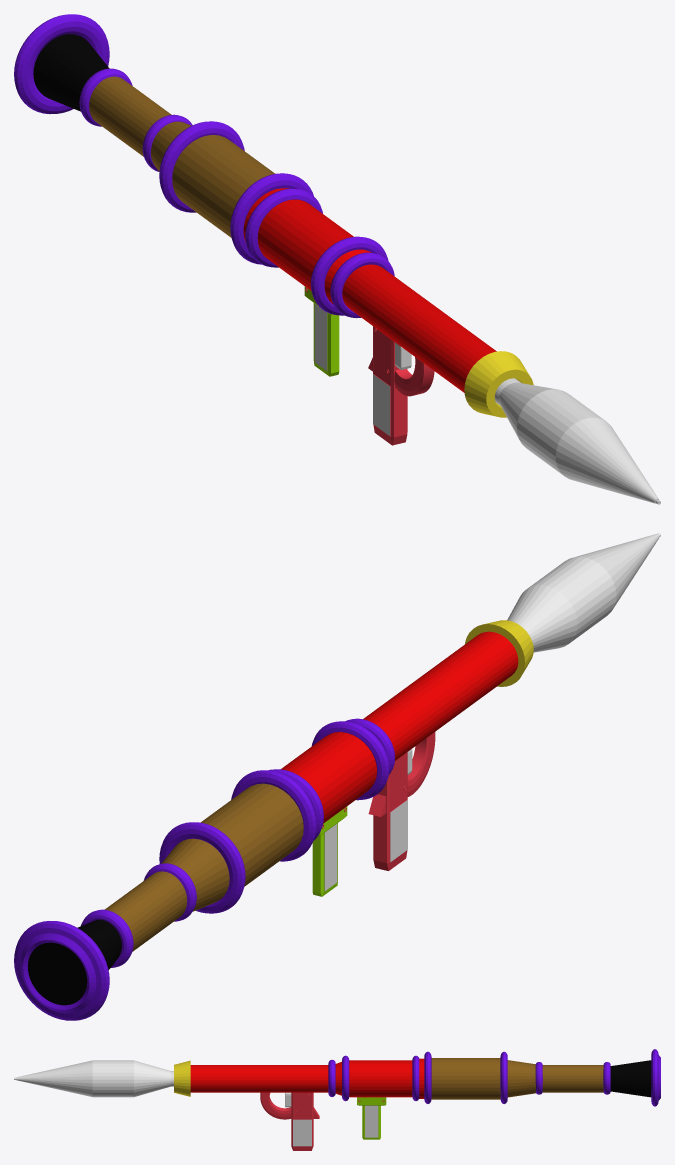
The model's file is Rpg_Com.fbx.
The picture shows the model from 3 angles, top to bottom: view 1: azimuth 30°, elevation 25°; view 2: azimuth 150°, elevation 25°; view 3: azimuth 270°, elevation 25°; orthographic projection. The views are drawn at different scales.
Parts seen in each view (by area): view 1: BaseCone.002, BaseCone.005; view 2: BaseCone.002, BaseCone.005; view 3: BaseCone.002, BaseCone.005.
Part boxes in pixels (left/top/right/bottom): BaseCone.002: left=14, top=14, right=533, bottom=445; BaseCone.005: left=494, top=378, right=660, bottom=504; BaseCone.002: left=14, top=620, right=533, bottom=1020; BaseCone.005: left=507, top=533, right=660, bottom=652; BaseCone.002: left=174, top=1049, right=660, bottom=1150; BaseCone.005: left=14, top=1060, right=173, bottom=1097.
Size of the model in its own units: 40.53 by 74.12 by 446.
